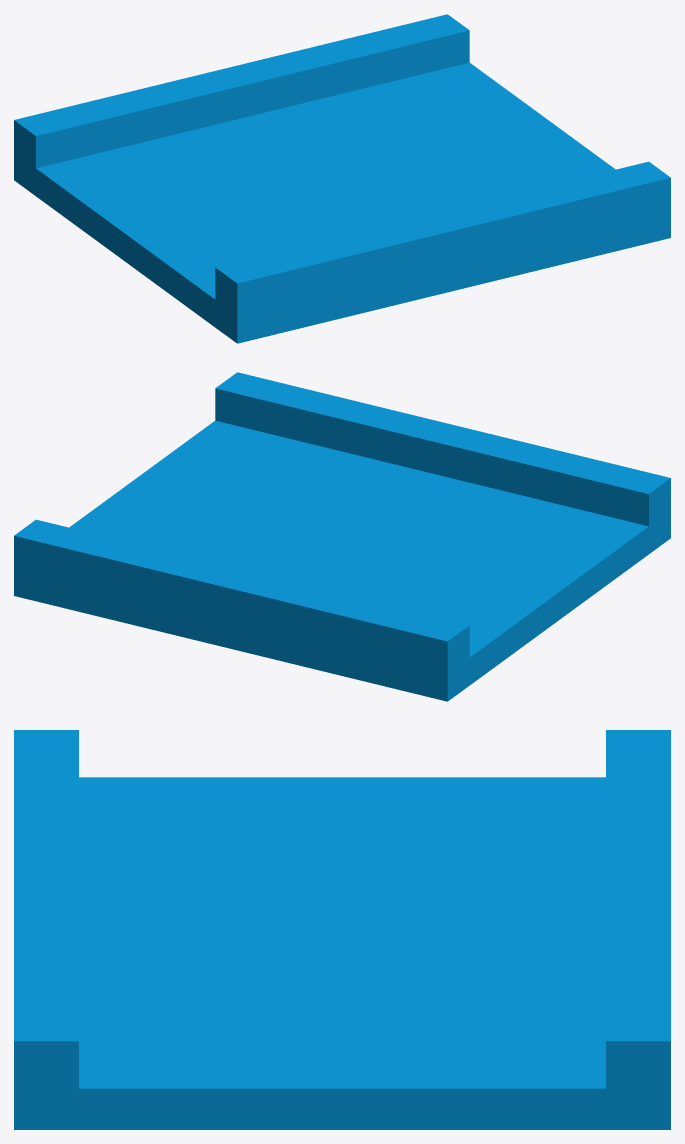
File: Bridge_07.fbx
3 renders of one model, top to bottom at view 1: azimuth 30°, elevation 25°; view 2: azimuth 150°, elevation 25°; view 3: azimuth 270°, elevation 25°, orthographic. The views are drawn at different scales.
Visible parts, largest first — view 1: Bridge_07; view 2: Bridge_07; view 3: Bridge_07.
Boxes of the visible parts, left/top/right/bottom form: Bridge_07: left=14, top=14, right=670, bottom=343; Bridge_07: left=14, top=372, right=670, bottom=701; Bridge_07: left=14, top=730, right=670, bottom=1129.
Size of the model in its own units: 17.17 by 2.28 by 15.31.
